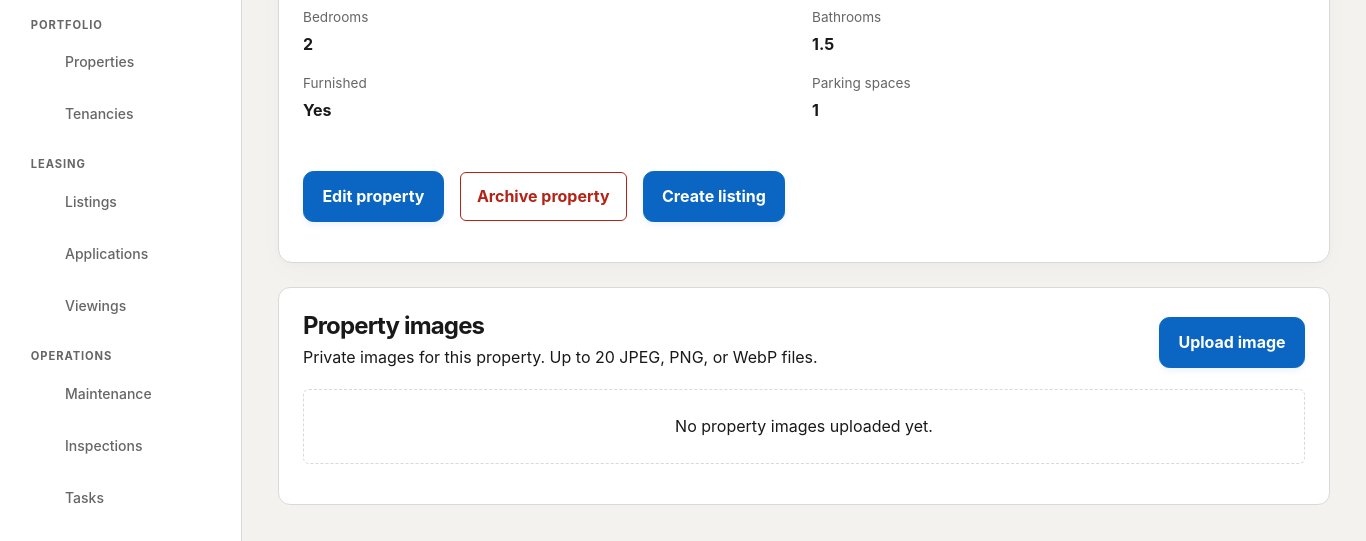
Test: property detail, edit, and archive › loads and edits a property
(page scrolled)
Click the button "Edit property".
click(373, 196)  # box x1=303 y1=171 x2=444 y2=222
(page scrolled)
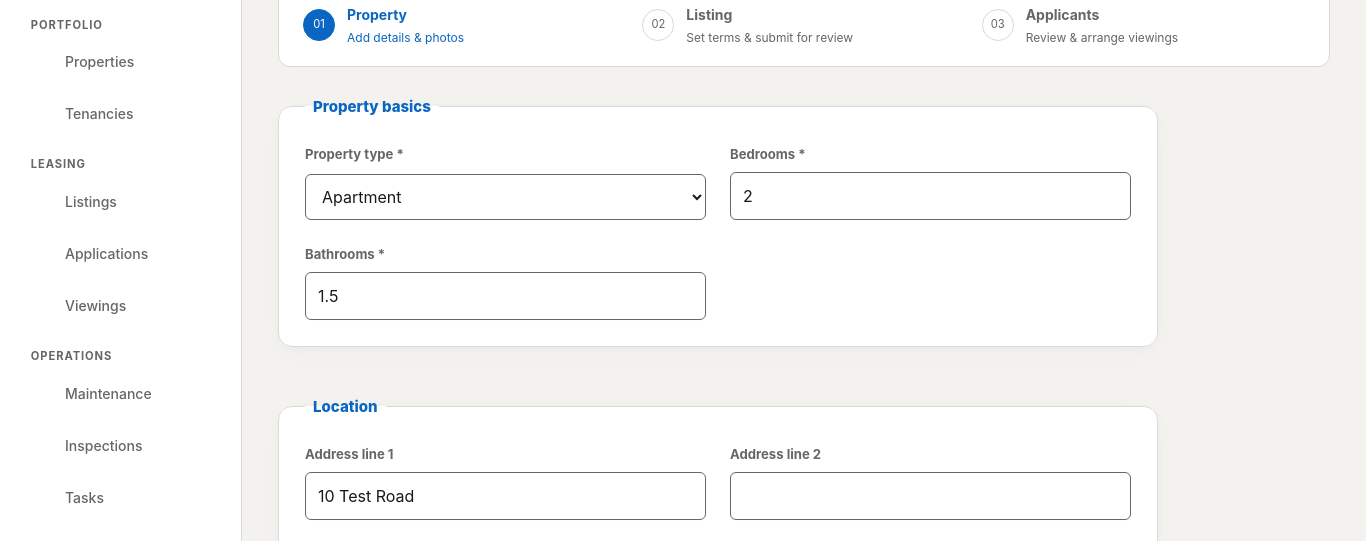
Replace the text in the number field labelled "Bedrooms *" with "3" at coordinates (930, 196), box x1=730 y1=172 x2=1131 y2=220
(page scrolled)
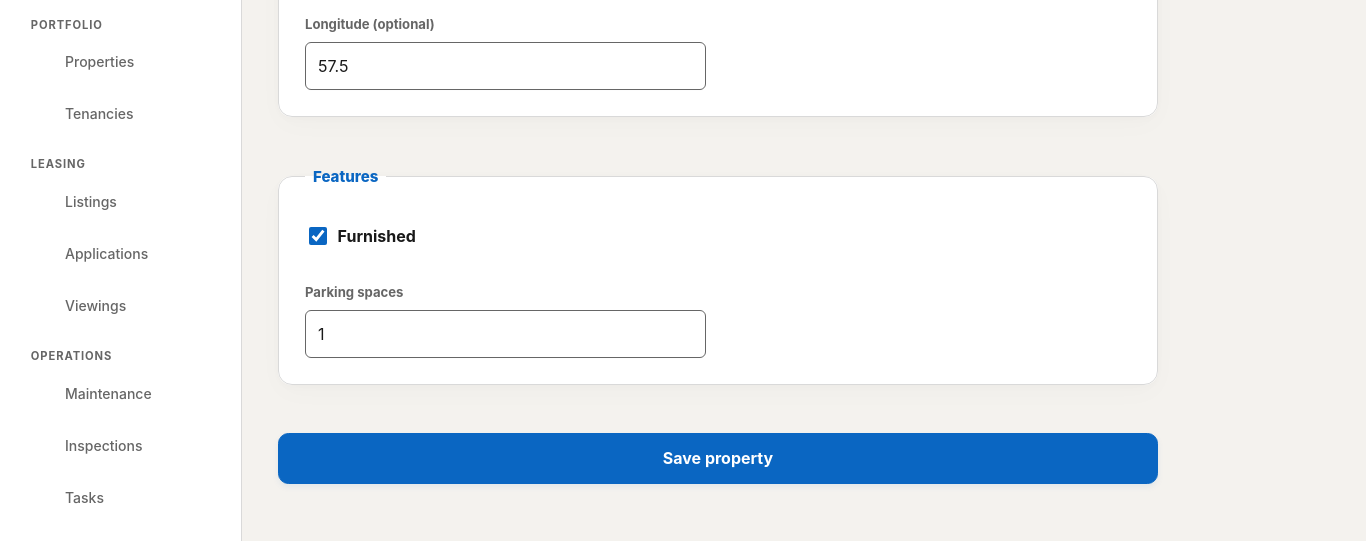
Click the button "Save property".
click(718, 458)  # box x1=278 y1=433 x2=1158 y2=484
(page scrolled)
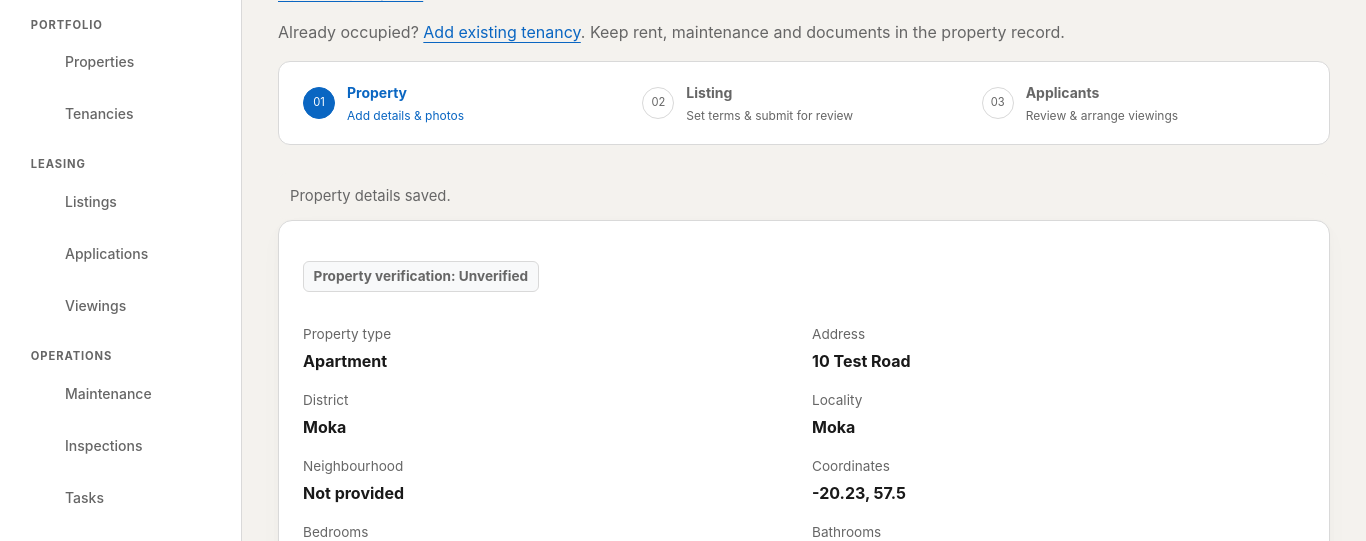
Expected: the text "Property details saved." is shown, x1=278 y1=173 x2=1330 y2=220
